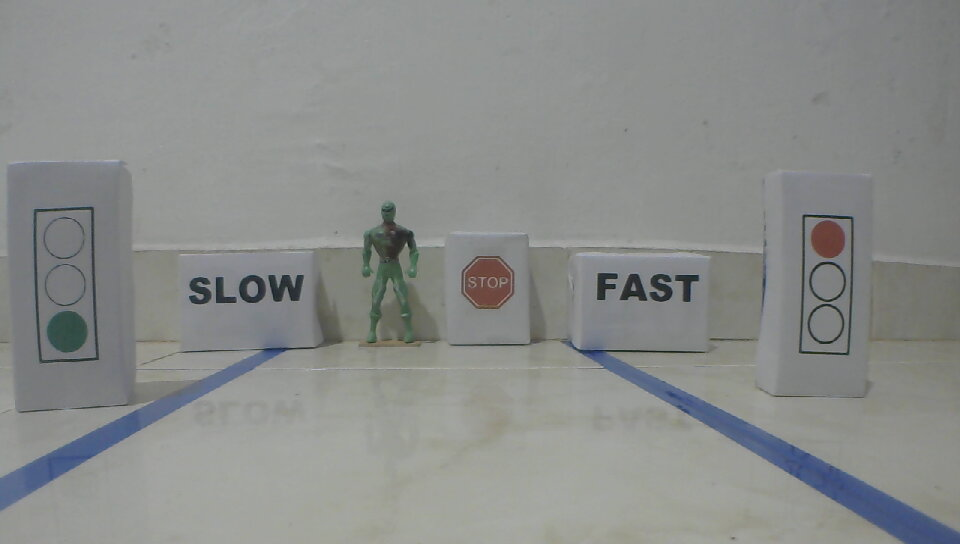Fast: (594, 270, 703, 304)
Green Traffic Light: (31, 203, 103, 366)
Person: (358, 201, 424, 346)
Red Traffic Light: (796, 211, 857, 357)
Slow: (187, 274, 304, 306)
Stop Sign: (458, 254, 517, 312)
